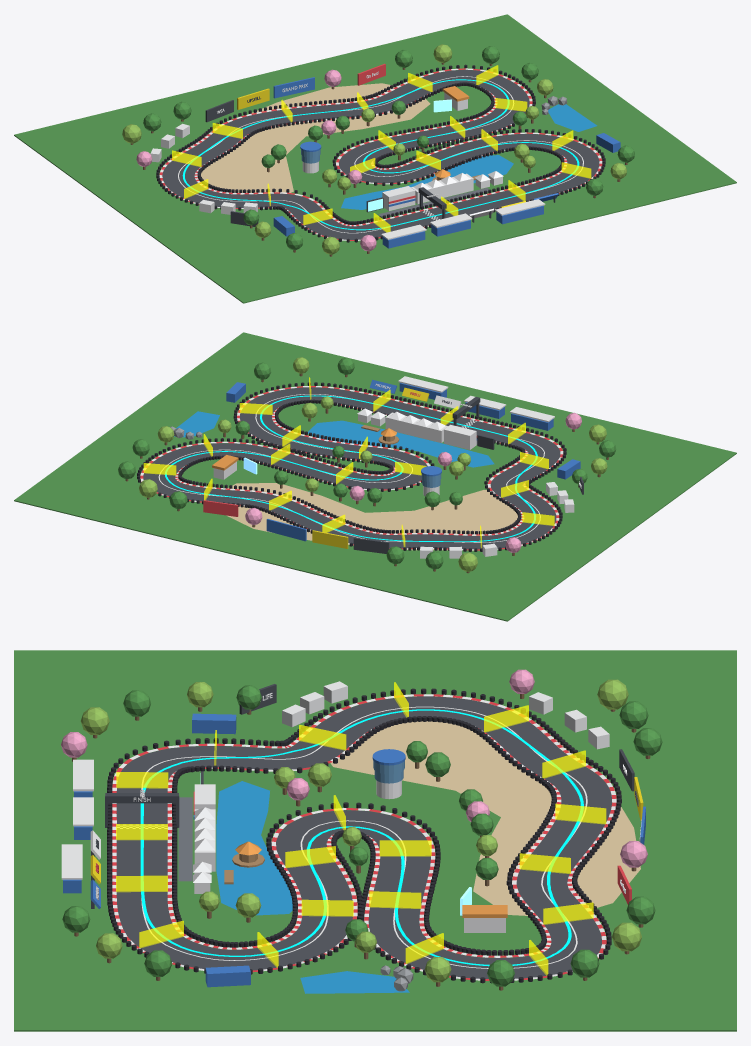
Rendered from grand_prix_circuit.glb.
The picture shows the model from 3 angles, top to bottom: view 1: azimuth 30°, elevation 25°; view 2: azimuth 150°, elevation 25°; view 3: azimuth 270°, elevation 25°; orthographic projection. The views are drawn at different scales.
Parts seen in each view (by area): view 1: Grass, Asphalt, Tire_Barrier, Sand_Runoff, Kerb, Water_Pond, Racing_Line, Road_Center_Line, Pit_Garage_Main, Pit_Control_Wing, Billboard_GRAND_PRIX; view 2: Grass, Asphalt, Tire_Barrier, Sand_Runoff, Kerb, Water_Pond, Racing_Line, Road_Center_Line, Pit_Garage_Main, Pit_Control_Wing, Billboard_GRAND_PRIX; view 3: Grass, Asphalt, Sand_Runoff, Tire_Barrier, Kerb, Water_Pond, Racing_Line, Road_Center_Line, Pit_Lane, Grandstand_East, Grandstand_West, Checkpoint_13 (+26 smaller).
Boxes of the visible parts, bbox=[...] form: Grass: bbox=[14, 14, 736, 303]; Asphalt: bbox=[162, 69, 599, 239]; Tire_Barrier: bbox=[156, 64, 605, 242]; Sand_Runoff: bbox=[186, 83, 430, 194]; Kerb: bbox=[159, 68, 602, 240]; Water_Pond: bbox=[341, 104, 597, 209]; Racing_Line: bbox=[182, 79, 579, 230]; Road_Center_Line: bbox=[178, 76, 583, 233]; Pit_Garage_Main: bbox=[411, 173, 473, 204]; Pit_Control_Wing: bbox=[382, 186, 415, 210]; Billboard_GRAND_PRIX: bbox=[273, 77, 314, 98]; Grass: bbox=[14, 332, 736, 621]; Asphalt: bbox=[143, 387, 560, 549]; Tire_Barrier: bbox=[137, 382, 566, 551]; Sand_Runoff: bbox=[226, 483, 520, 550]; Kerb: bbox=[140, 386, 563, 550]; Water_Pond: bbox=[174, 411, 494, 467]; Racing_Line: bbox=[165, 395, 537, 541]; Road_Center_Line: bbox=[158, 394, 544, 542]; Pit_Garage_Main: bbox=[385, 412, 447, 442]; Pit_Control_Wing: bbox=[444, 424, 476, 449]; Billboard_GRAND_PRIX: bbox=[266, 519, 306, 541]; Grass: bbox=[14, 650, 736, 1031]; Asphalt: bbox=[116, 696, 612, 978]; Sand_Runoff: bbox=[330, 696, 640, 915]; Tire_Barrier: bbox=[107, 688, 621, 983]; Kerb: bbox=[112, 694, 616, 980]; Water_Pond: bbox=[216, 781, 409, 993]; Racing_Line: bbox=[140, 709, 583, 966]; Road_Center_Line: bbox=[141, 706, 587, 968]; Pit_Lane: bbox=[178, 797, 192, 881]; Grandstand_East: bbox=[205, 965, 250, 987]; Grandstand_West: bbox=[192, 713, 236, 734]; Checkpoint_13: bbox=[379, 840, 431, 856].
Size of what is drawn, in the model's own units: 154 by 7.63 by 124.
